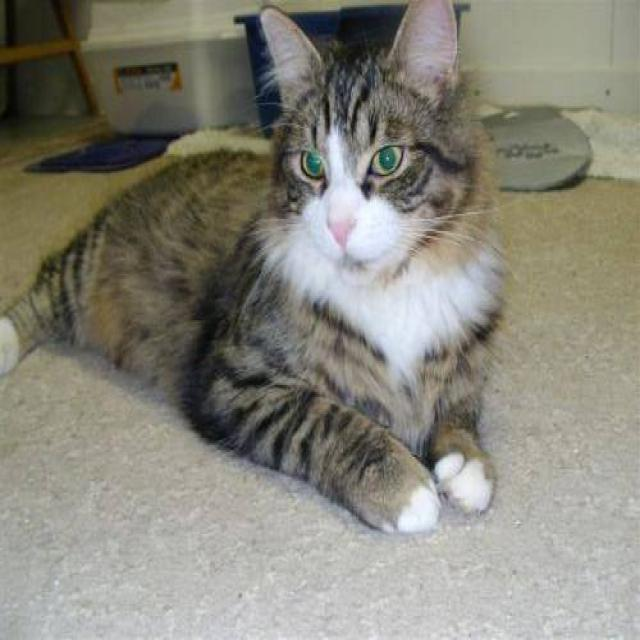cat: (0, 0, 509, 535)
